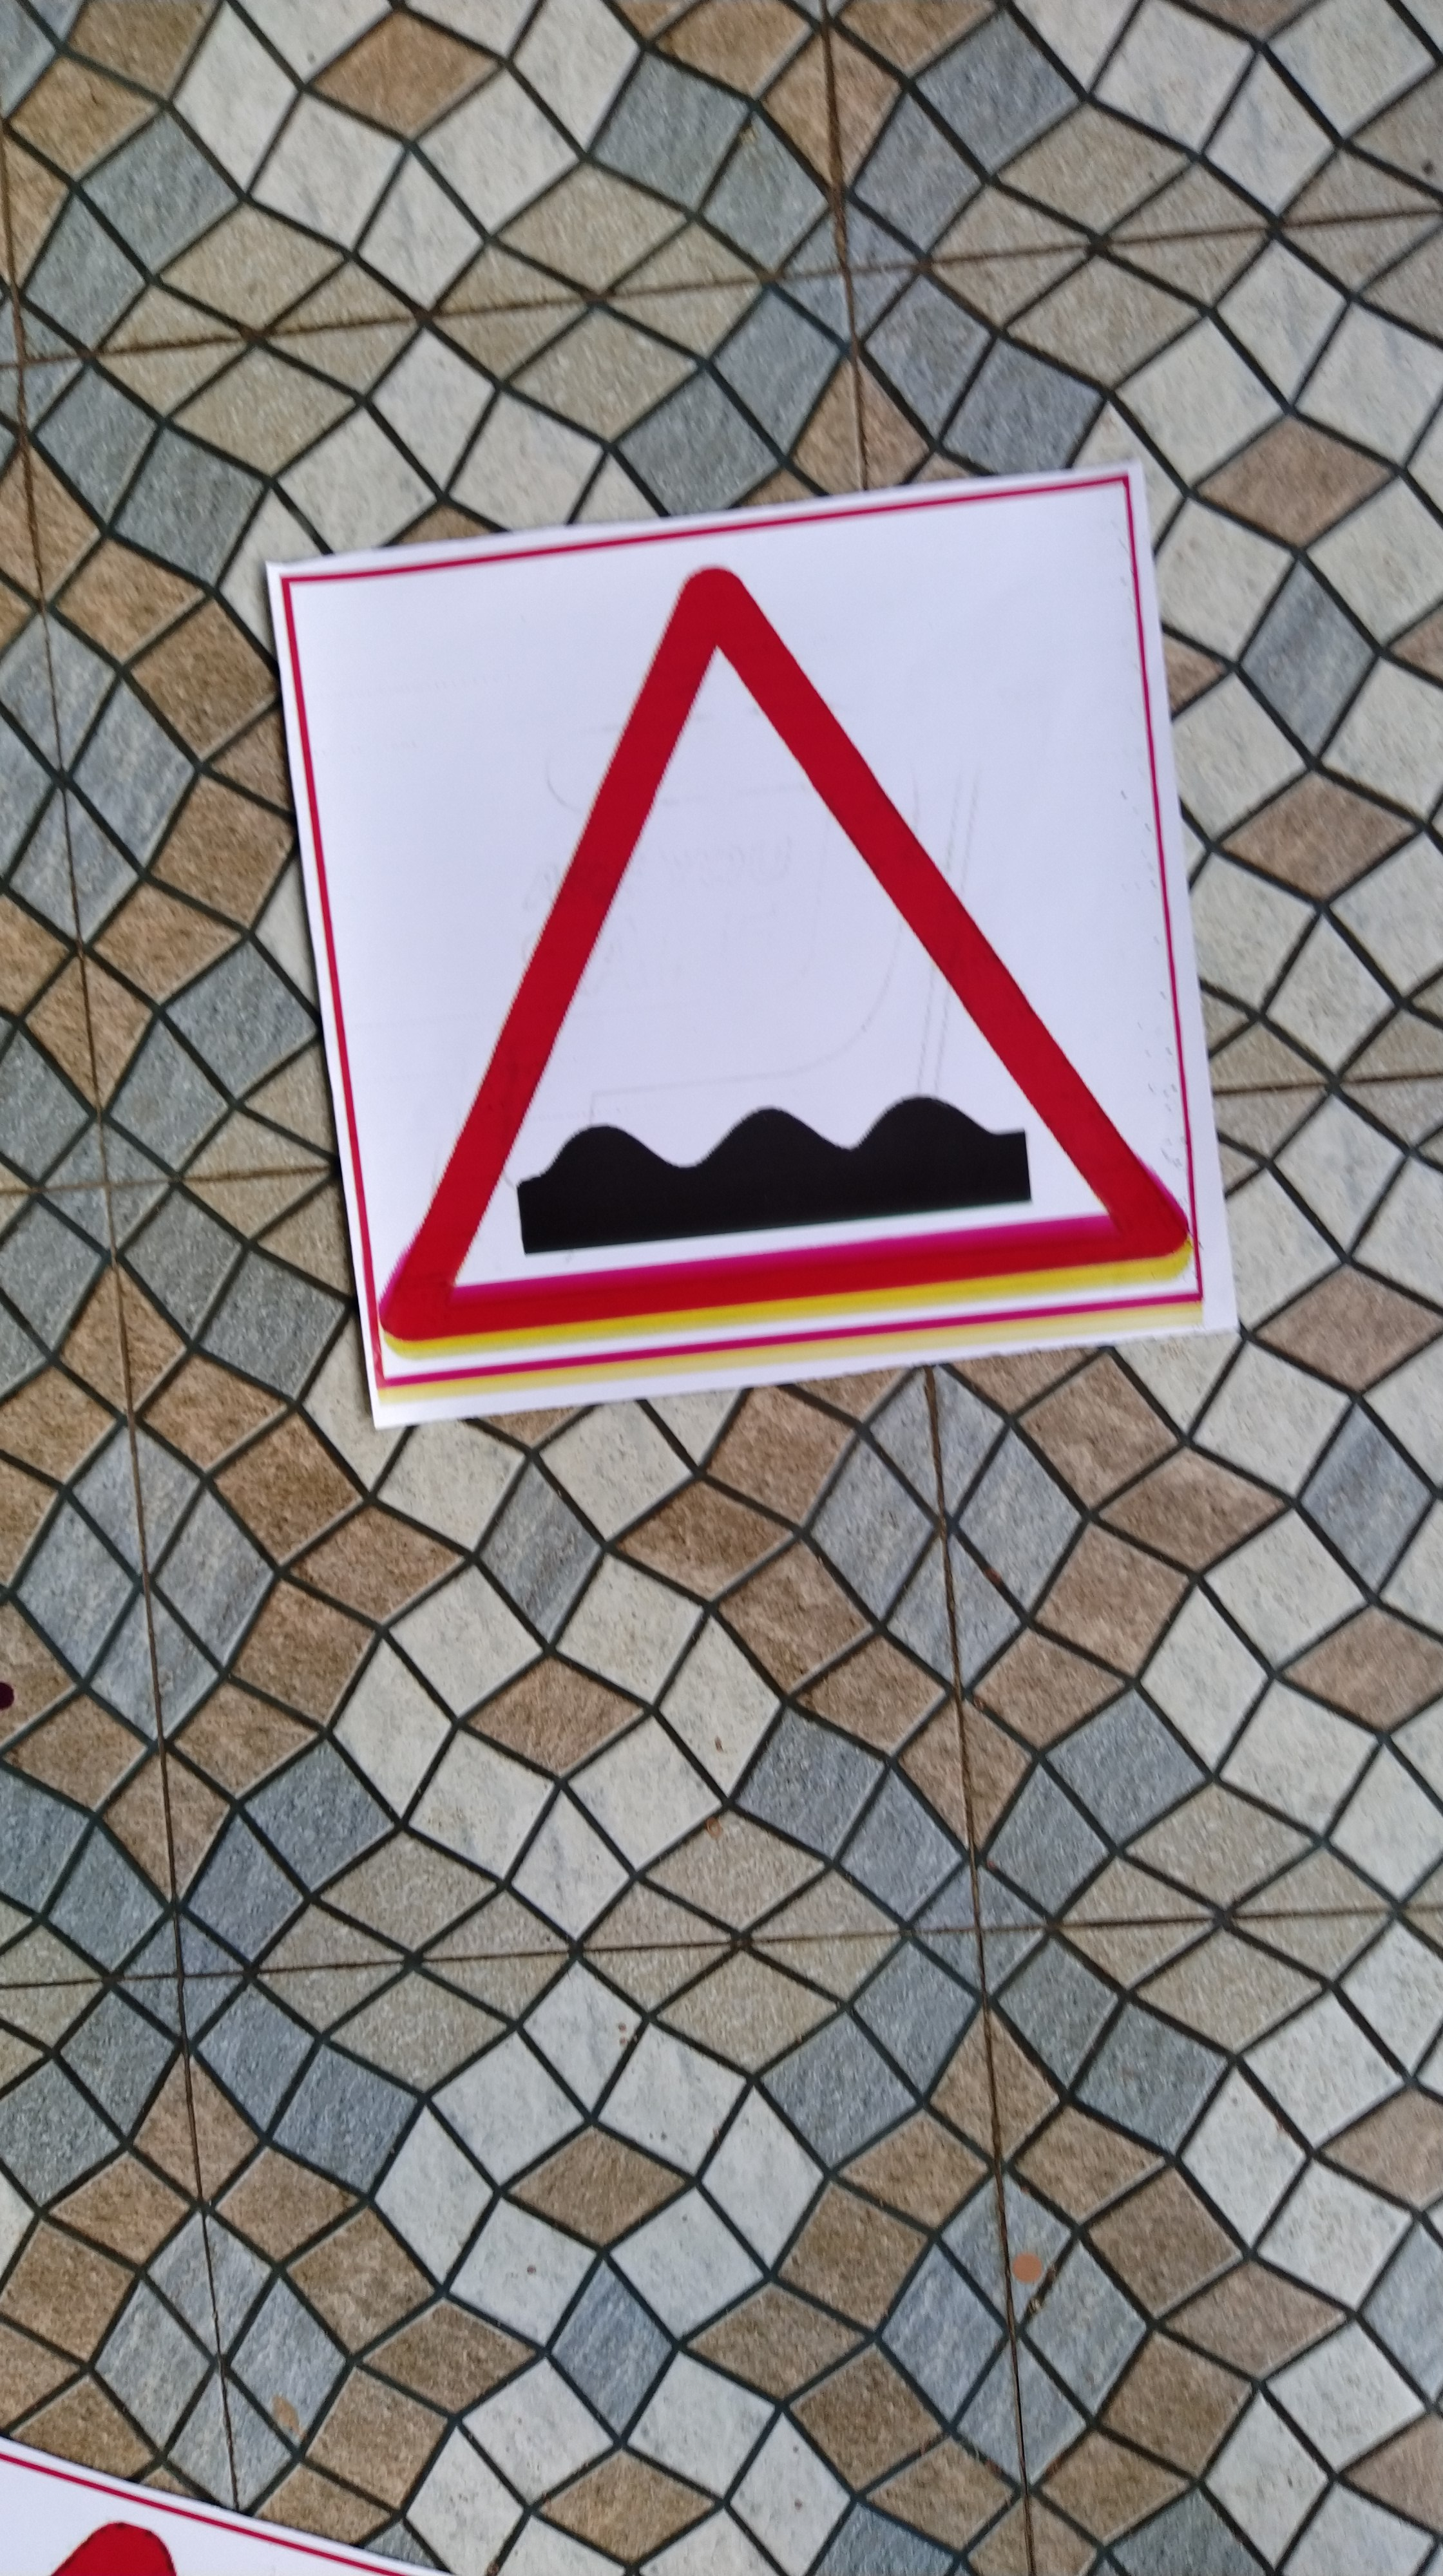speed breaker: (361, 541, 1218, 1387)
